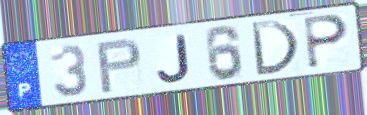3: (47, 43, 89, 100)
6: (203, 23, 245, 84)
D: (248, 19, 302, 78)
J: (155, 32, 193, 84)
P: (94, 36, 144, 96), (302, 13, 351, 71)
